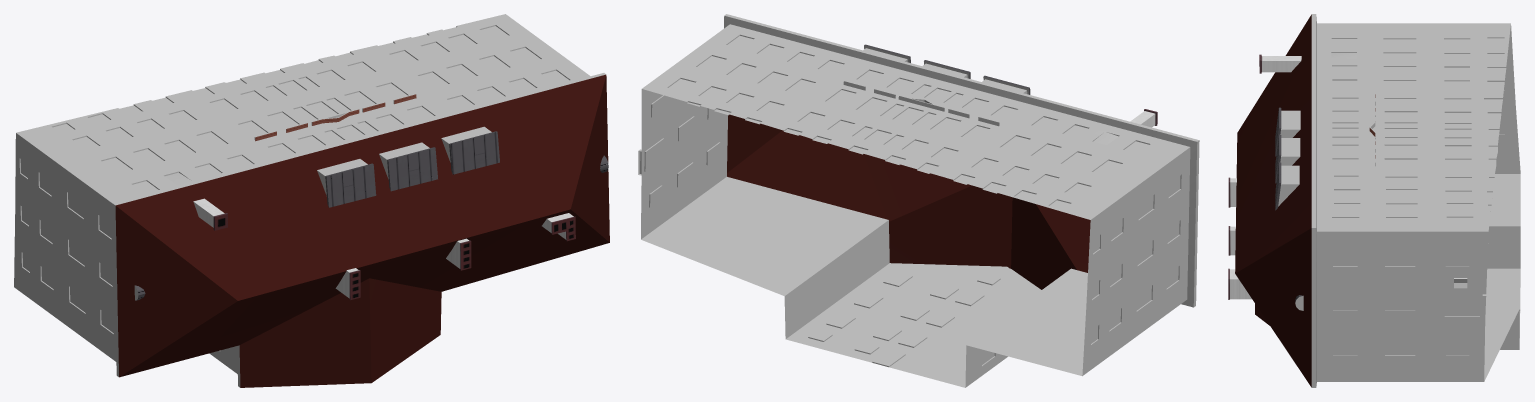
The model's file is Toom-Kooli_11.obj.
3 views of the same model, side by side, from view 1: azimuth 30°, elevation 25°; view 2: azimuth 150°, elevation 25°; view 3: azimuth 270°, elevation 25° (orthographic). The views are drawn at different scales.
Visible parts, largest first — view 1: Toom_Kooli_11; view 2: Toom_Kooli_11; view 3: Toom_Kooli_11.
Boxes of the visible parts, x1=… form: Toom_Kooli_11: x1=14, y1=14, x2=609, y2=387; Toom_Kooli_11: x1=638, y1=14, x2=1199, y2=387; Toom_Kooli_11: x1=1228, y1=14, x2=1520, y2=387.
Size of the model in its own units: 45.19 by 19.96 by 24.72.
